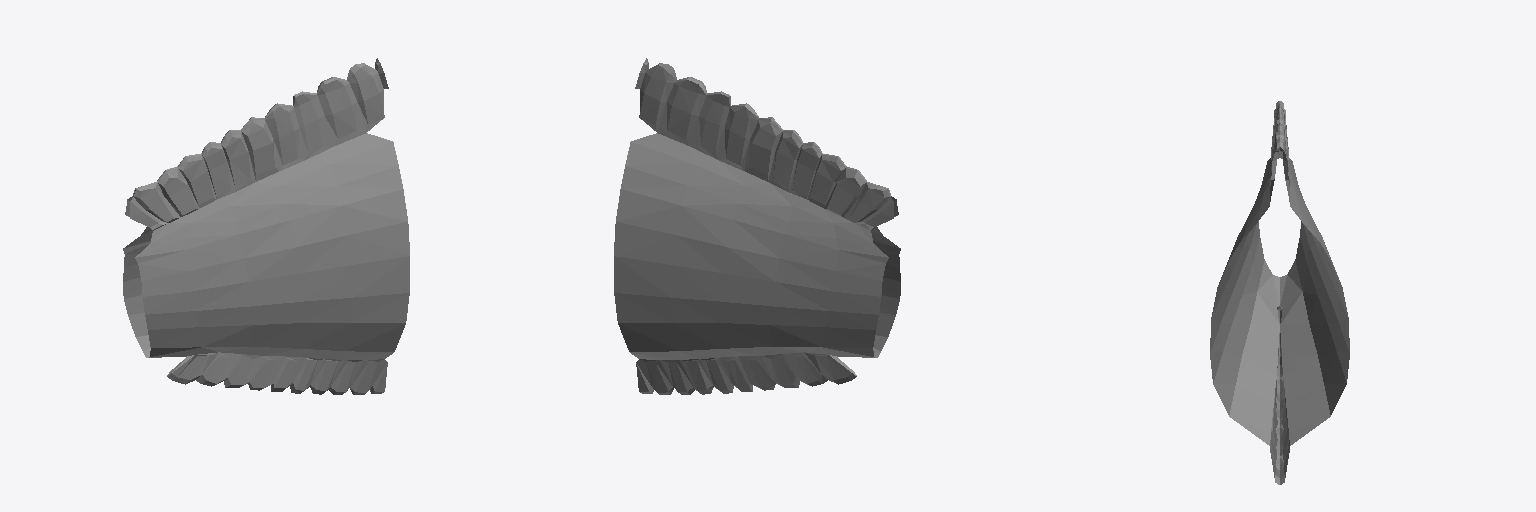
File: fish_body2.obj
3 renders of one model, left to right at view 1: azimuth 30°, elevation 25°; view 2: azimuth 150°, elevation 25°; view 3: azimuth 270°, elevation 25°, orthographic.
Visible parts, largest first — view 1: main_polySurface633_group1; view 2: main_polySurface633_group1; view 3: main_polySurface633_group1.
Part boxes in pixels (left/top/right/bottom): main_polySurface633_group1: left=123, top=58, right=409, bottom=394; main_polySurface633_group1: left=614, top=58, right=900, bottom=394; main_polySurface633_group1: left=1210, top=101, right=1349, bottom=484.
Bounding box in the file's own units: 1.98 × 2.47 × 0.9325.